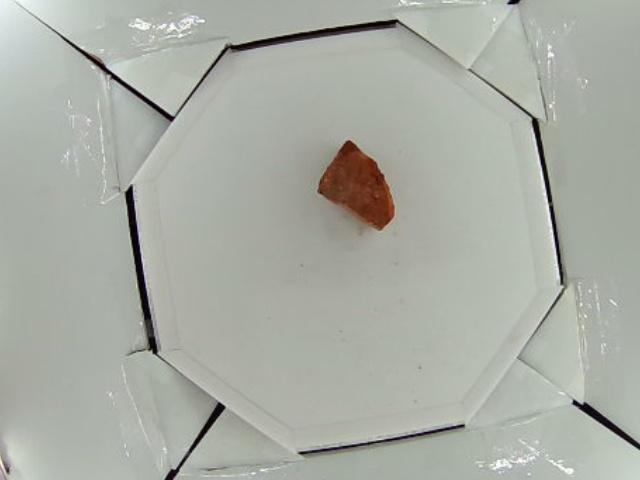Brisk: (318, 140, 398, 229)
